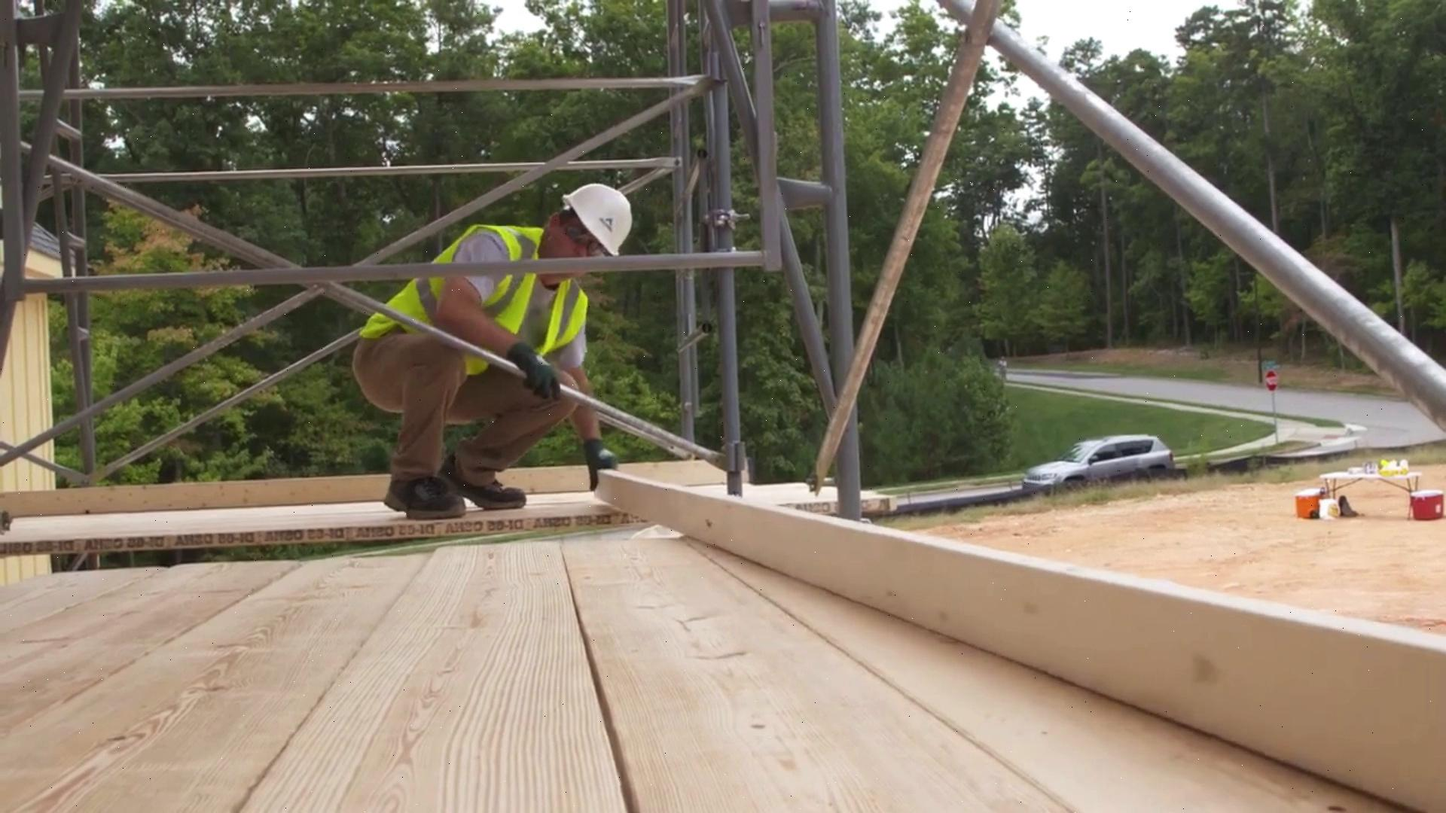Hard_hat: (568, 183, 637, 260), (564, 348, 567, 349)
Vest: (346, 223, 582, 349)
